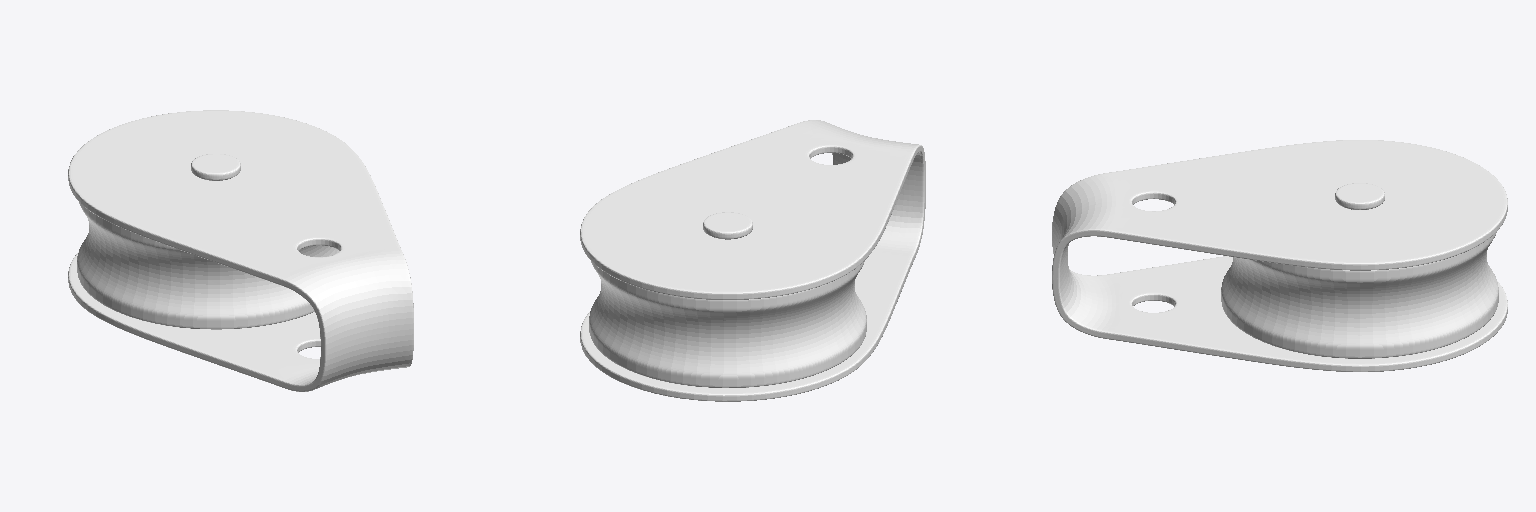
File: 14062_Sailing_Single_Block_v1_l3.obj
3 views of the same model, side by side, from view 1: azimuth 30°, elevation 25°; view 2: azimuth 150°, elevation 25°; view 3: azimuth 270°, elevation 25° (orthographic).
Visible parts, largest first — view 1: 14062_Sailing_Single_Block_v1; view 2: 14062_Sailing_Single_Block_v1; view 3: 14062_Sailing_Single_Block_v1.
Boxes of the visible parts, <box> form: 14062_Sailing_Single_Block_v1: <box>68,110,413,391</box>; 14062_Sailing_Single_Block_v1: <box>580,120,925,401</box>; 14062_Sailing_Single_Block_v1: <box>1052,140,1507,371</box>.
Bounding box in the file's own units: 7.59 × 3.59 × 11.74.